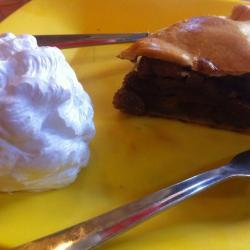apple_pie: (115, 6, 250, 136)
chantilly: (1, 32, 96, 178)
